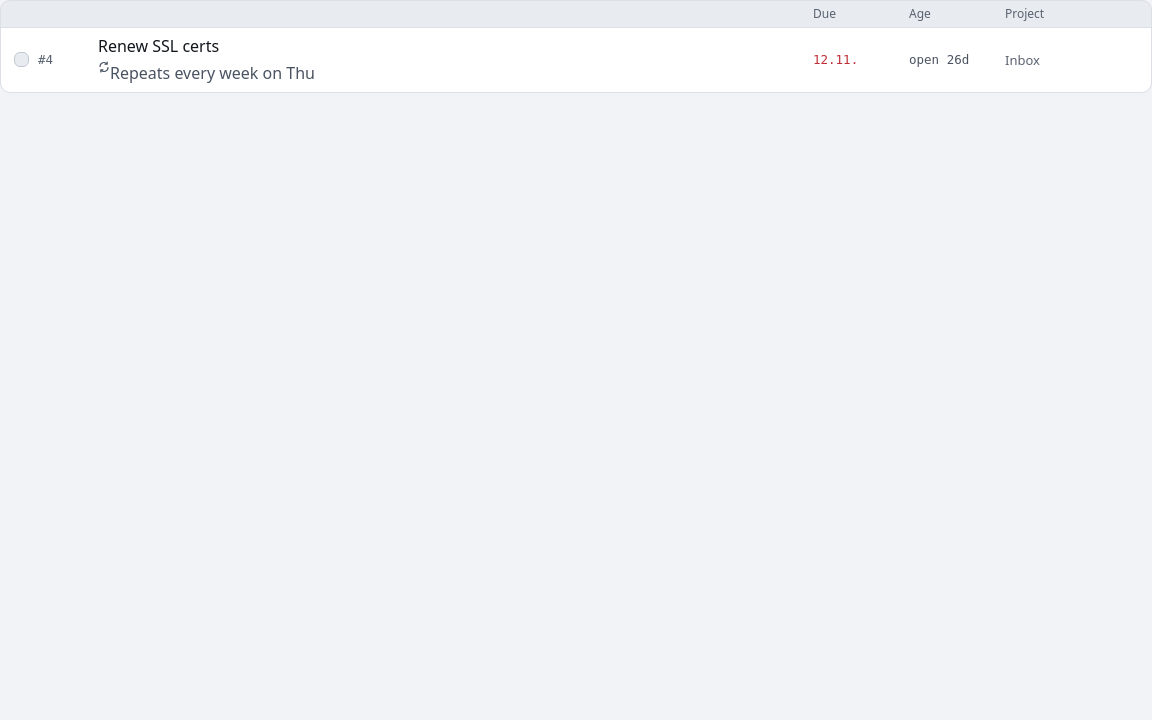
Scenario: StripList › names the next occurrence when a repeating todo is marked done
The image size is (1152, 720).
Step 1. Click the checkbox named "Mark #4 done" → (21,60), box [14, 52, 28, 67]
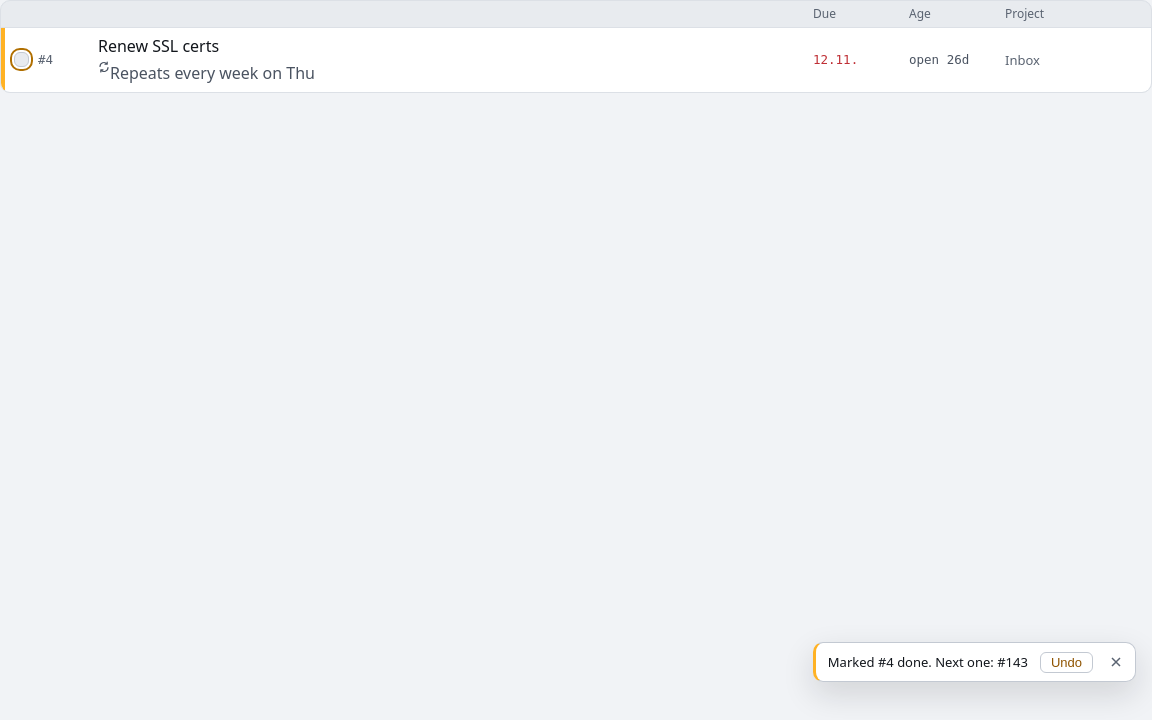
Check: the text "Marked #4 done. Next one: #143" is shown, box [828, 652, 1028, 672]
